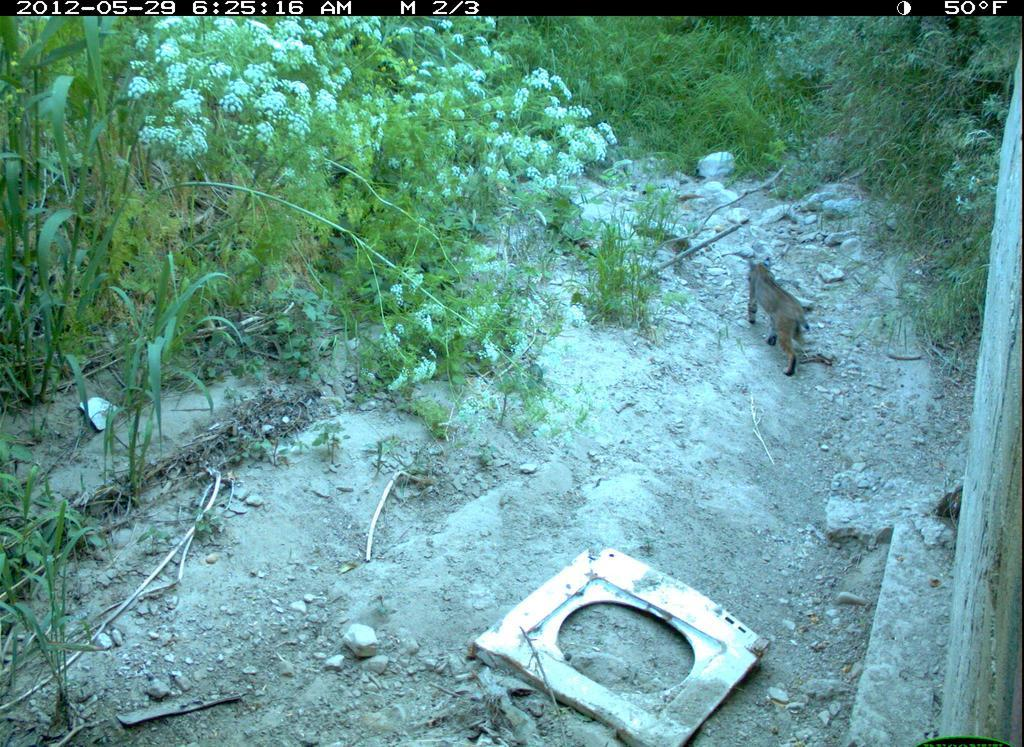bobcat: (738, 249, 820, 391)
